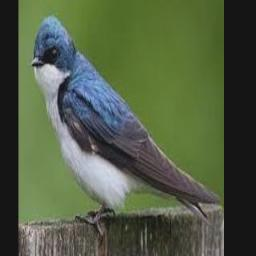Swallow: (30, 13, 221, 227)
